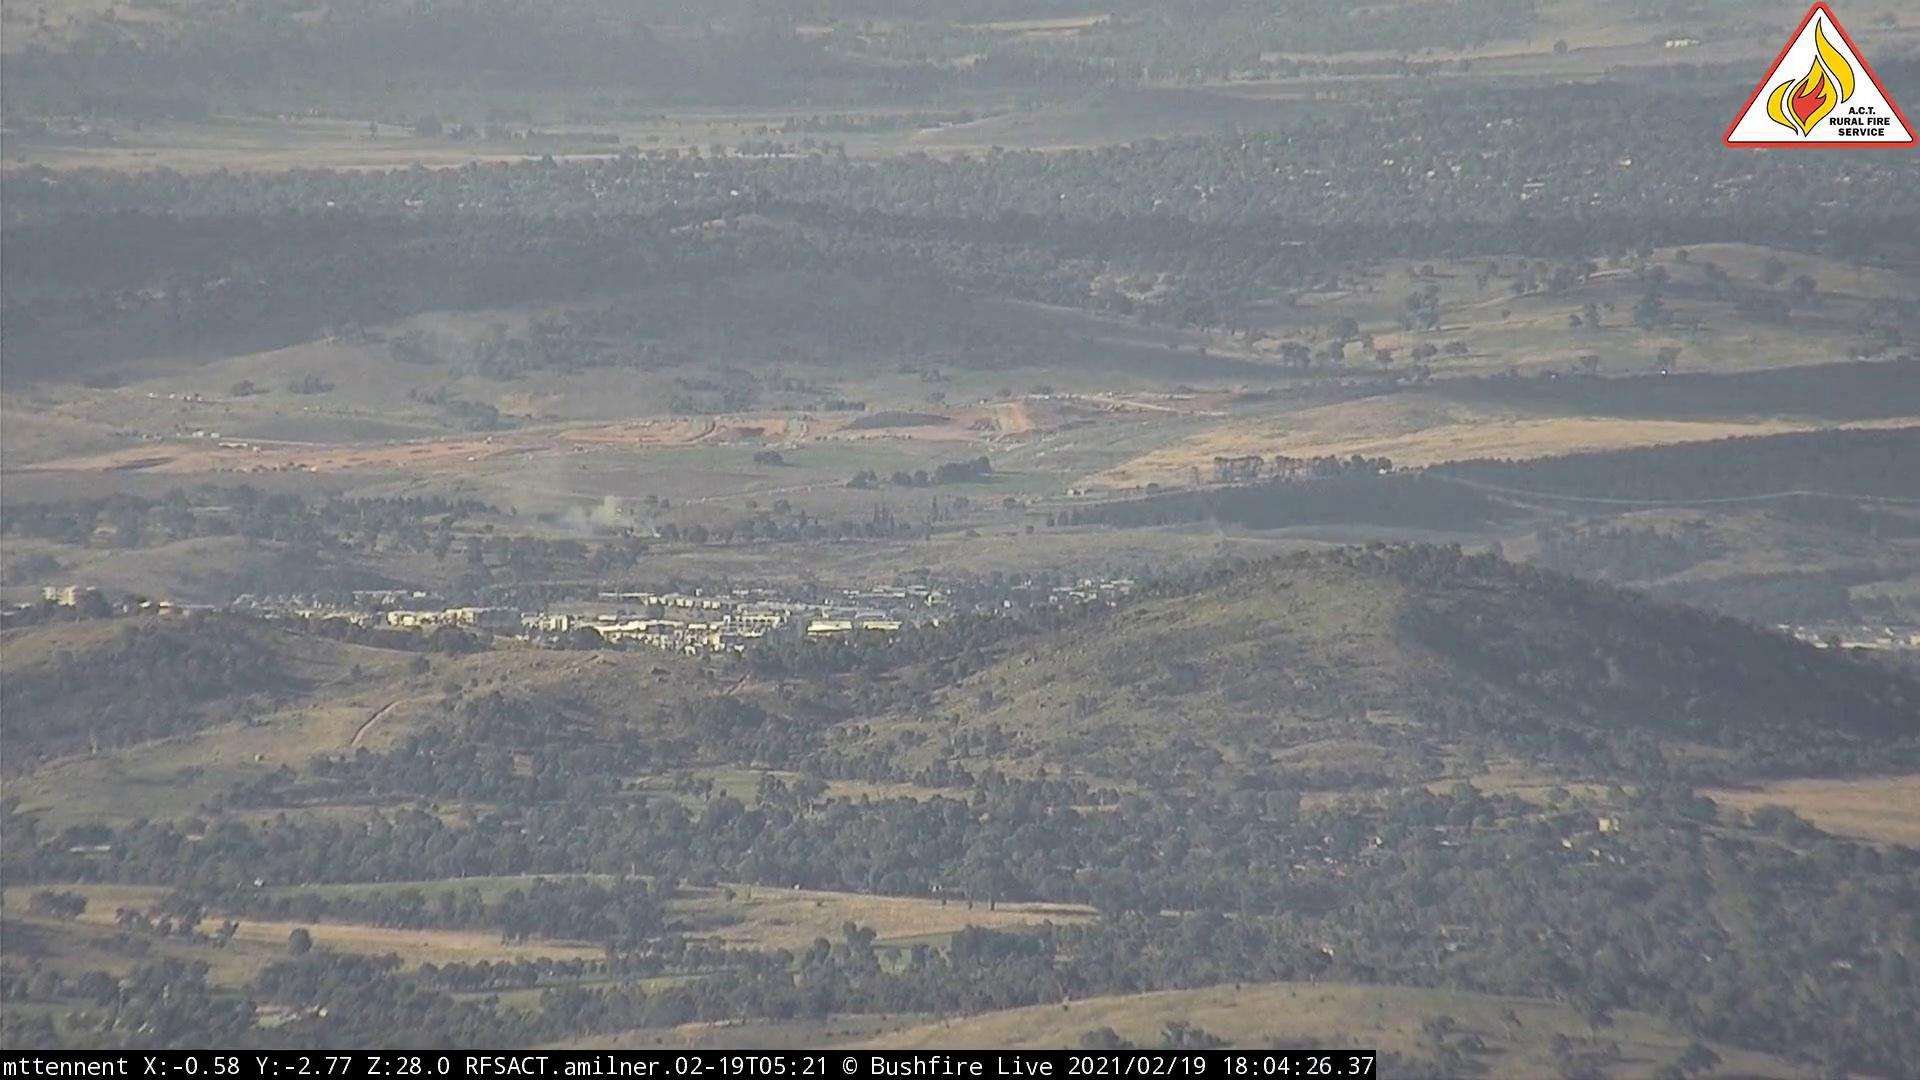Smoke: (516, 465, 679, 549)
